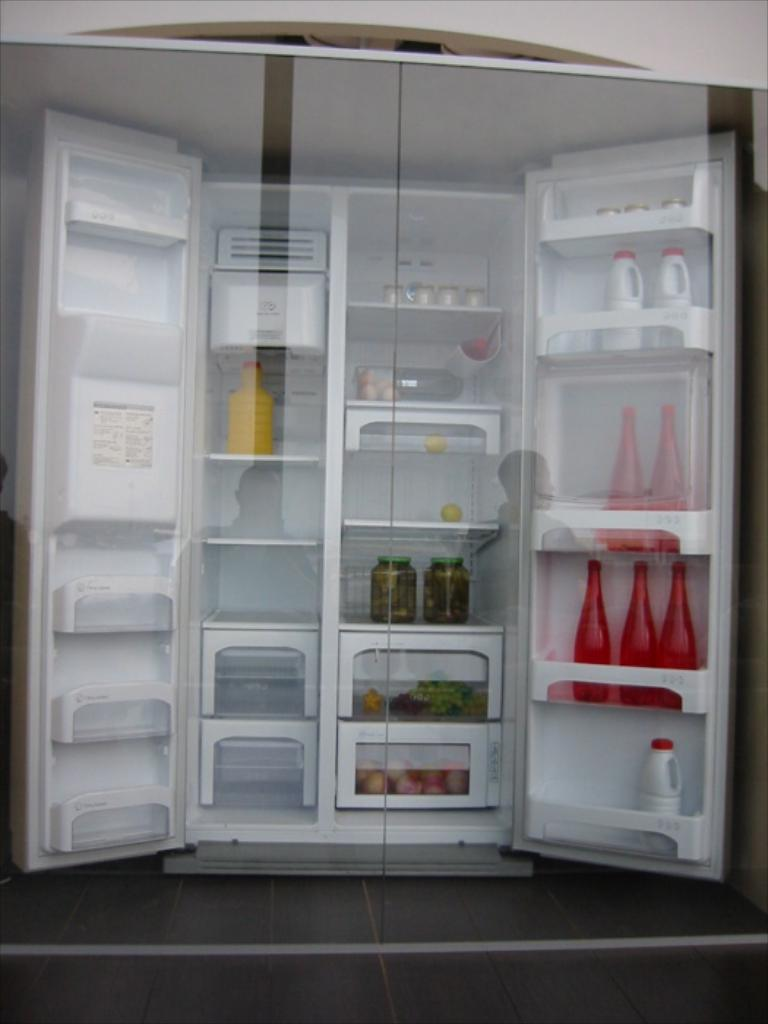refrigerator door: (538, 191, 709, 846), (41, 134, 185, 845)
